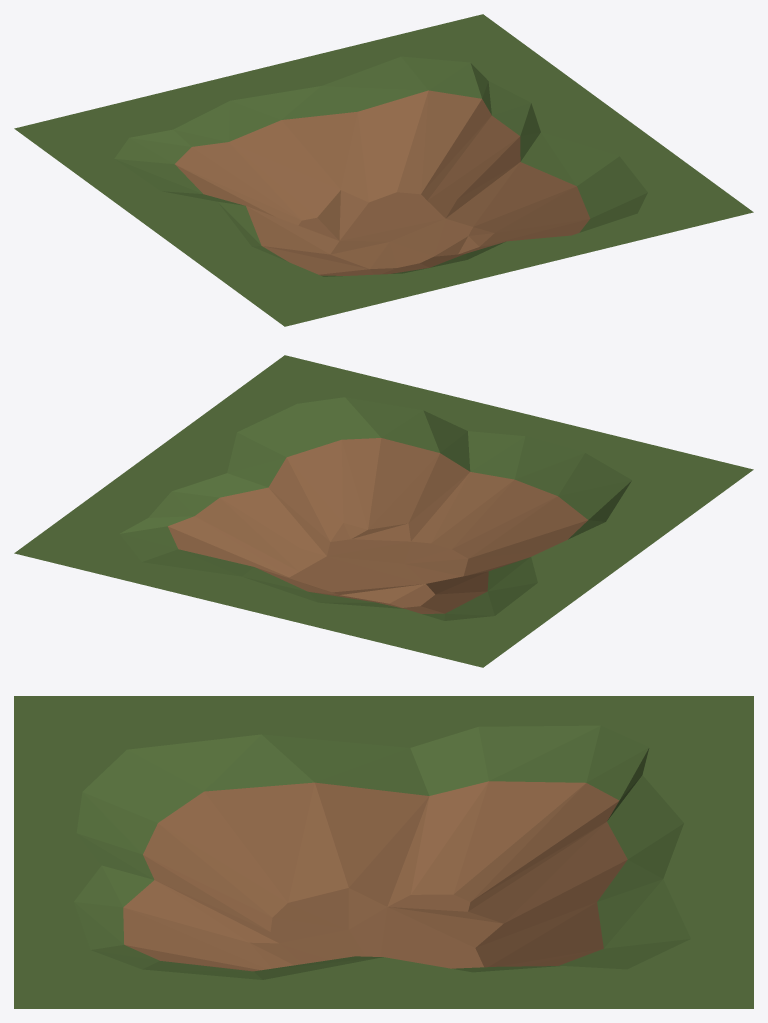
File: Pond_1 Asia.fbx
The picture shows the model from 3 angles, top to bottom: view 1: azimuth 30°, elevation 25°; view 2: azimuth 150°, elevation 25°; view 3: azimuth 270°, elevation 25°; orthographic projection. The views are drawn at different scales.
Visible parts, largest first — view 1: Pond_1; view 2: Pond_1; view 3: Pond_1.
Part boxes in pixels (x1,y1,x2,y2): Pond_1: (14, 14, 753, 326); Pond_1: (14, 355, 753, 667); Pond_1: (14, 696, 753, 1008).
Size of the model in its own units: 48 by 5.96 by 48.
